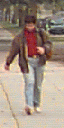person: (13, 13, 49, 116)
